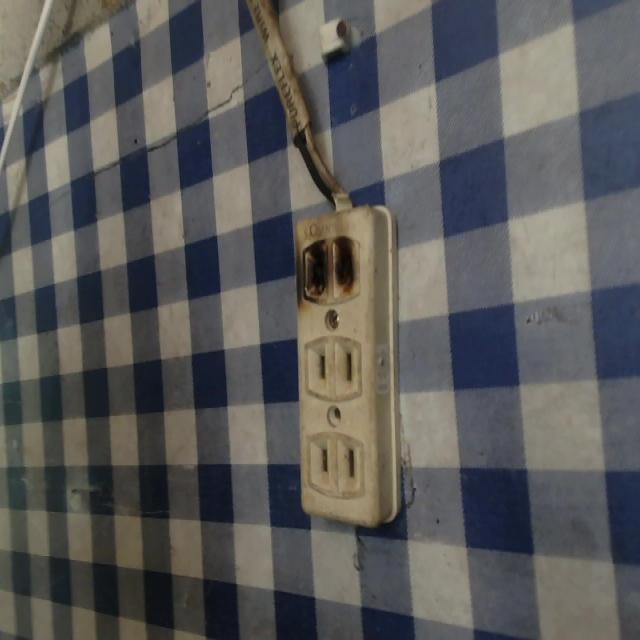-: (281, 224, 368, 309)
